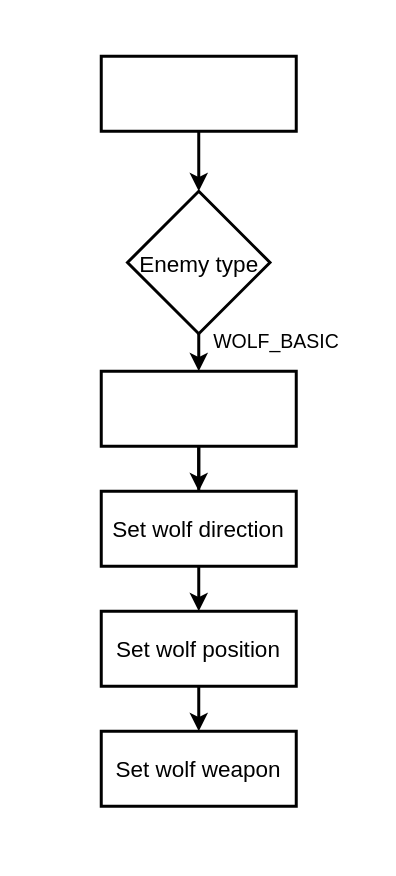
The diagram is 396 pixels wide and 876 high, and some of its shapes have lost their labels. The box of each missing label's shape, as (x1, y1, x2, y2) in pixels:
Get available wolf in pool: (99, 369, 297, 447)
Get random enemy type: (99, 54, 297, 132)
